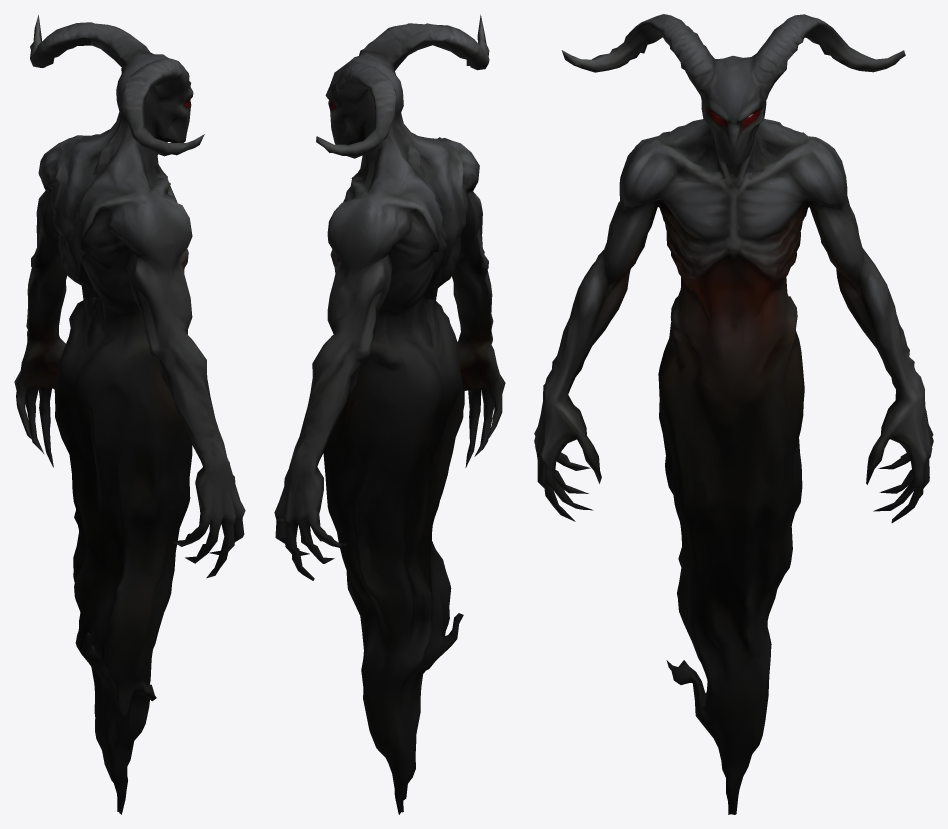
The model's file is 71ad0a76-1d35-45cb-a86a-91df723902d9_model_url.glb.
The picture shows the model from 3 angles, left to right: view 1: azimuth 30°, elevation 25°; view 2: azimuth 150°, elevation 25°; view 3: azimuth 270°, elevation 25°; orthographic projection. The views are drawn at different scales.
Parts seen in each view (by area): view 1: tripo_node_71ad0a76-1d35-45cb-a86a-91df723902d9; view 2: tripo_node_71ad0a76-1d35-45cb-a86a-91df723902d9; view 3: tripo_node_71ad0a76-1d35-45cb-a86a-91df723902d9.
Part boxes in pixels (x1,y1,x2,y2): tripo_node_71ad0a76-1d35-45cb-a86a-91df723902d9: (14, 15, 245, 814); tripo_node_71ad0a76-1d35-45cb-a86a-91df723902d9: (274, 14, 505, 814); tripo_node_71ad0a76-1d35-45cb-a86a-91df723902d9: (534, 14, 933, 814).
Size of the model in its own units: 0.1693 by 1 by 0.4544.
1 material, 1 textured.
